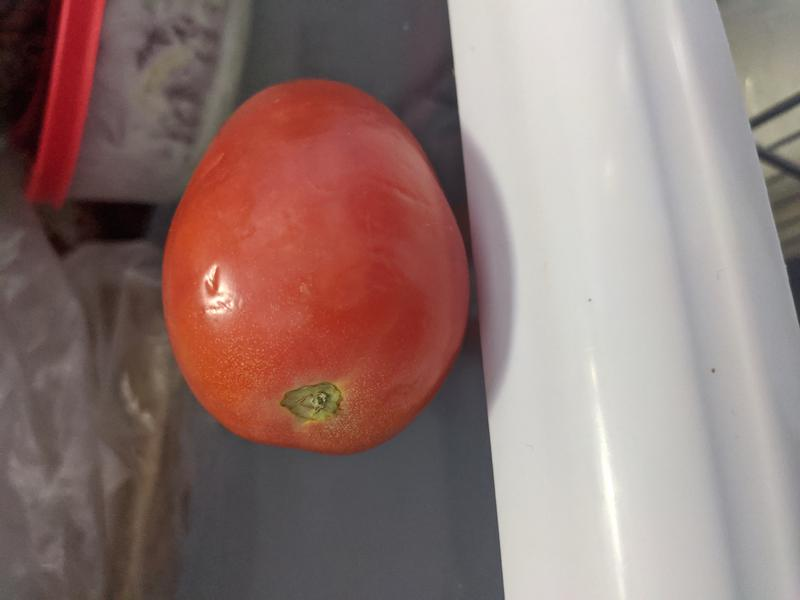tomato: (161, 78, 471, 458)
